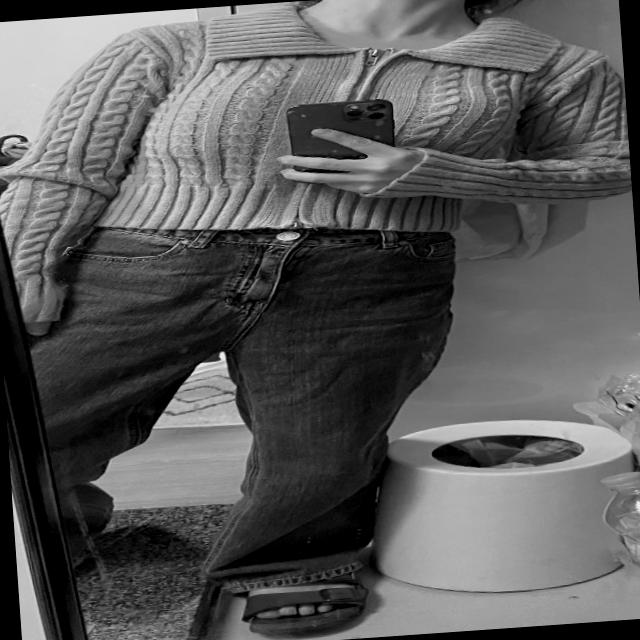cardigan: (0, 0, 638, 330)
denimpants: (0, 199, 490, 607)
